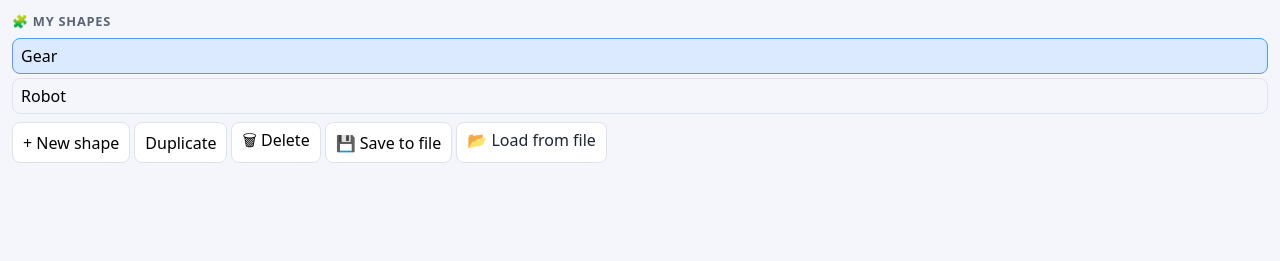
Scenario: LibraryList › makes and duplicates shapes
What coordinates should you click on to do the following:
click the button with test id "new-shape"
I would click on:
 (71, 142)
Its box is x1=12 y1=122 x2=130 y2=163.
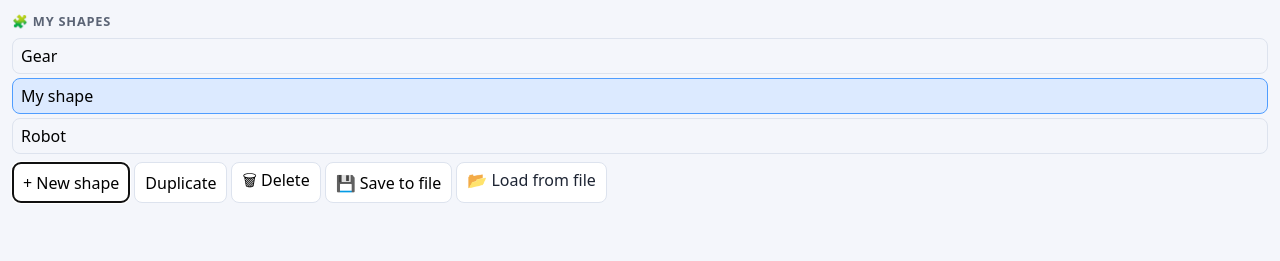
Expected: the button "My shape" is shown, x1=12 y1=78 x2=1268 y2=114
What coordinates should you click on to do the following:
click the button with test id "duplicate-shape"
I would click on:
 (181, 182)
Its box is x1=134 y1=162 x2=227 y2=203.
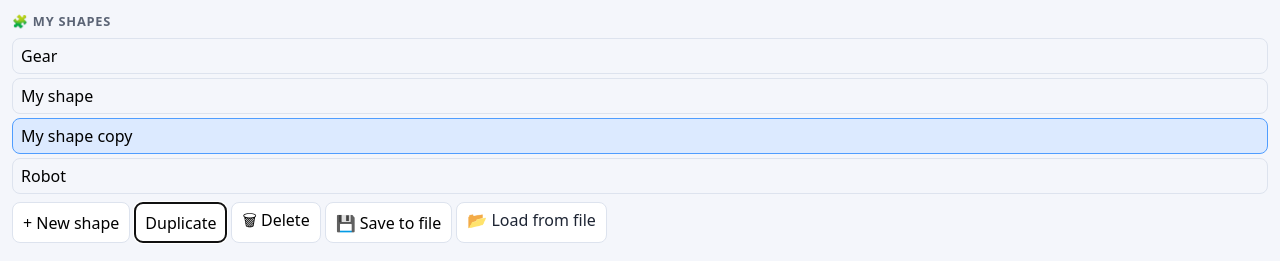
Expected: the button "My shape copy" is shown, x1=12 y1=118 x2=1268 y2=154
